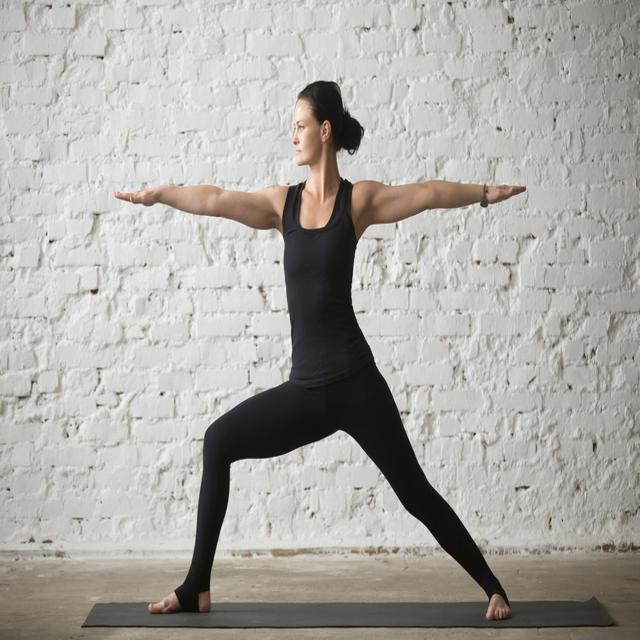Warrior_II: (116, 80, 530, 626)
